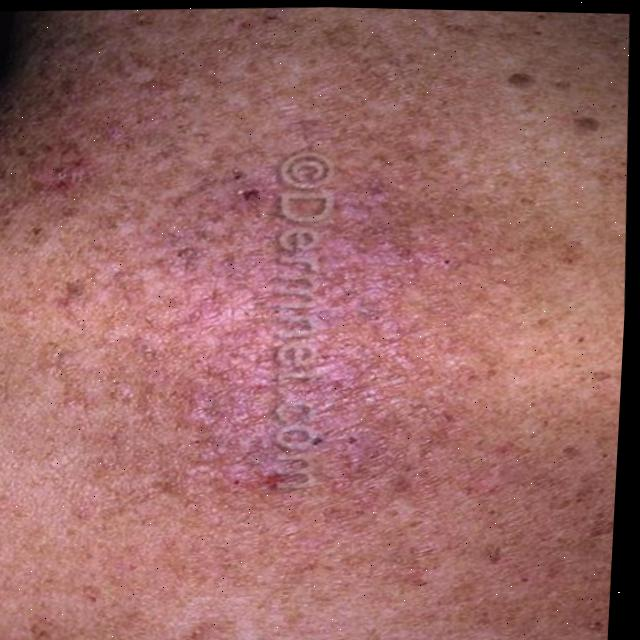Eczema: (71, 137, 510, 546)
